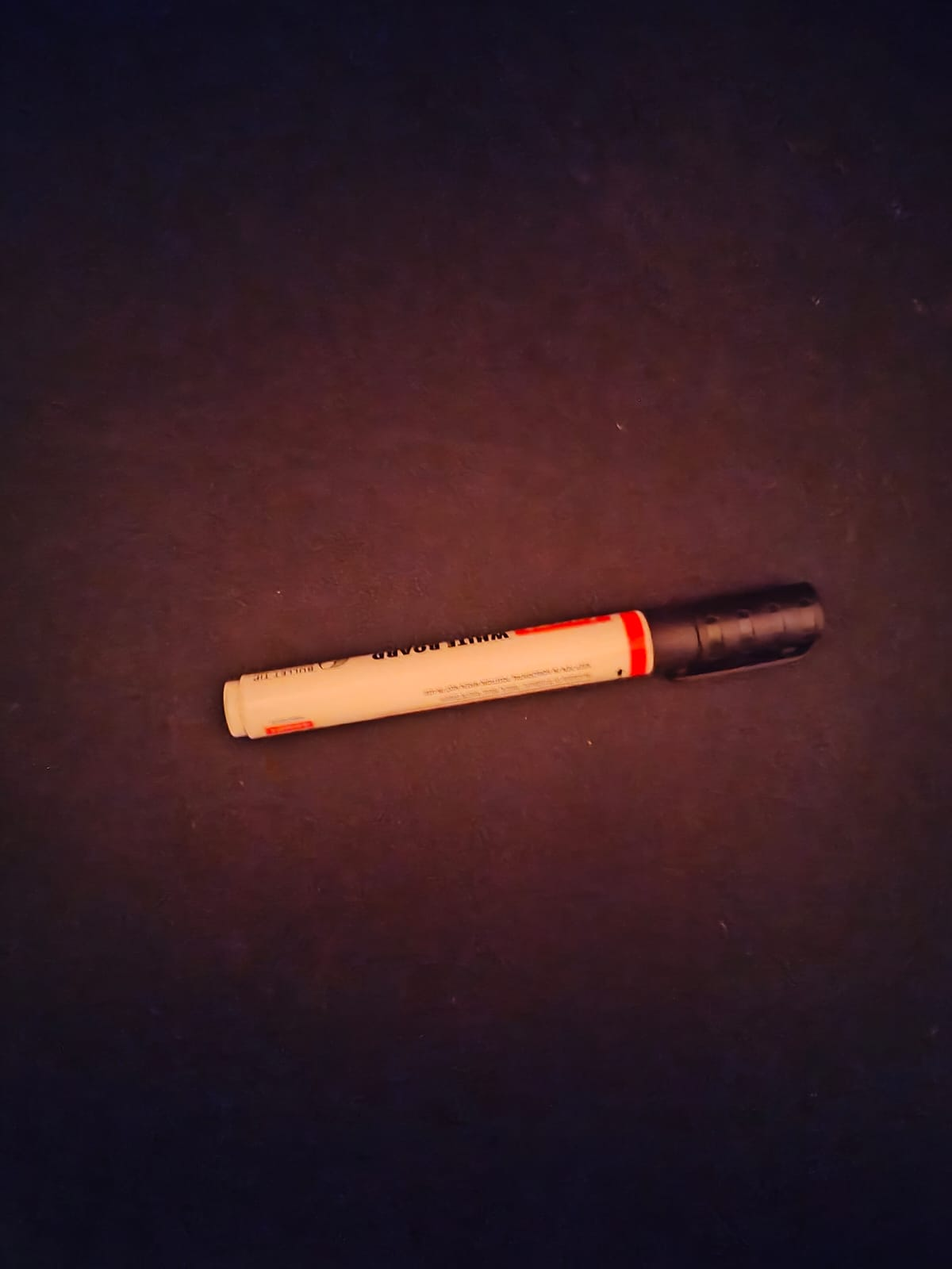case: (149, 565, 902, 753)
